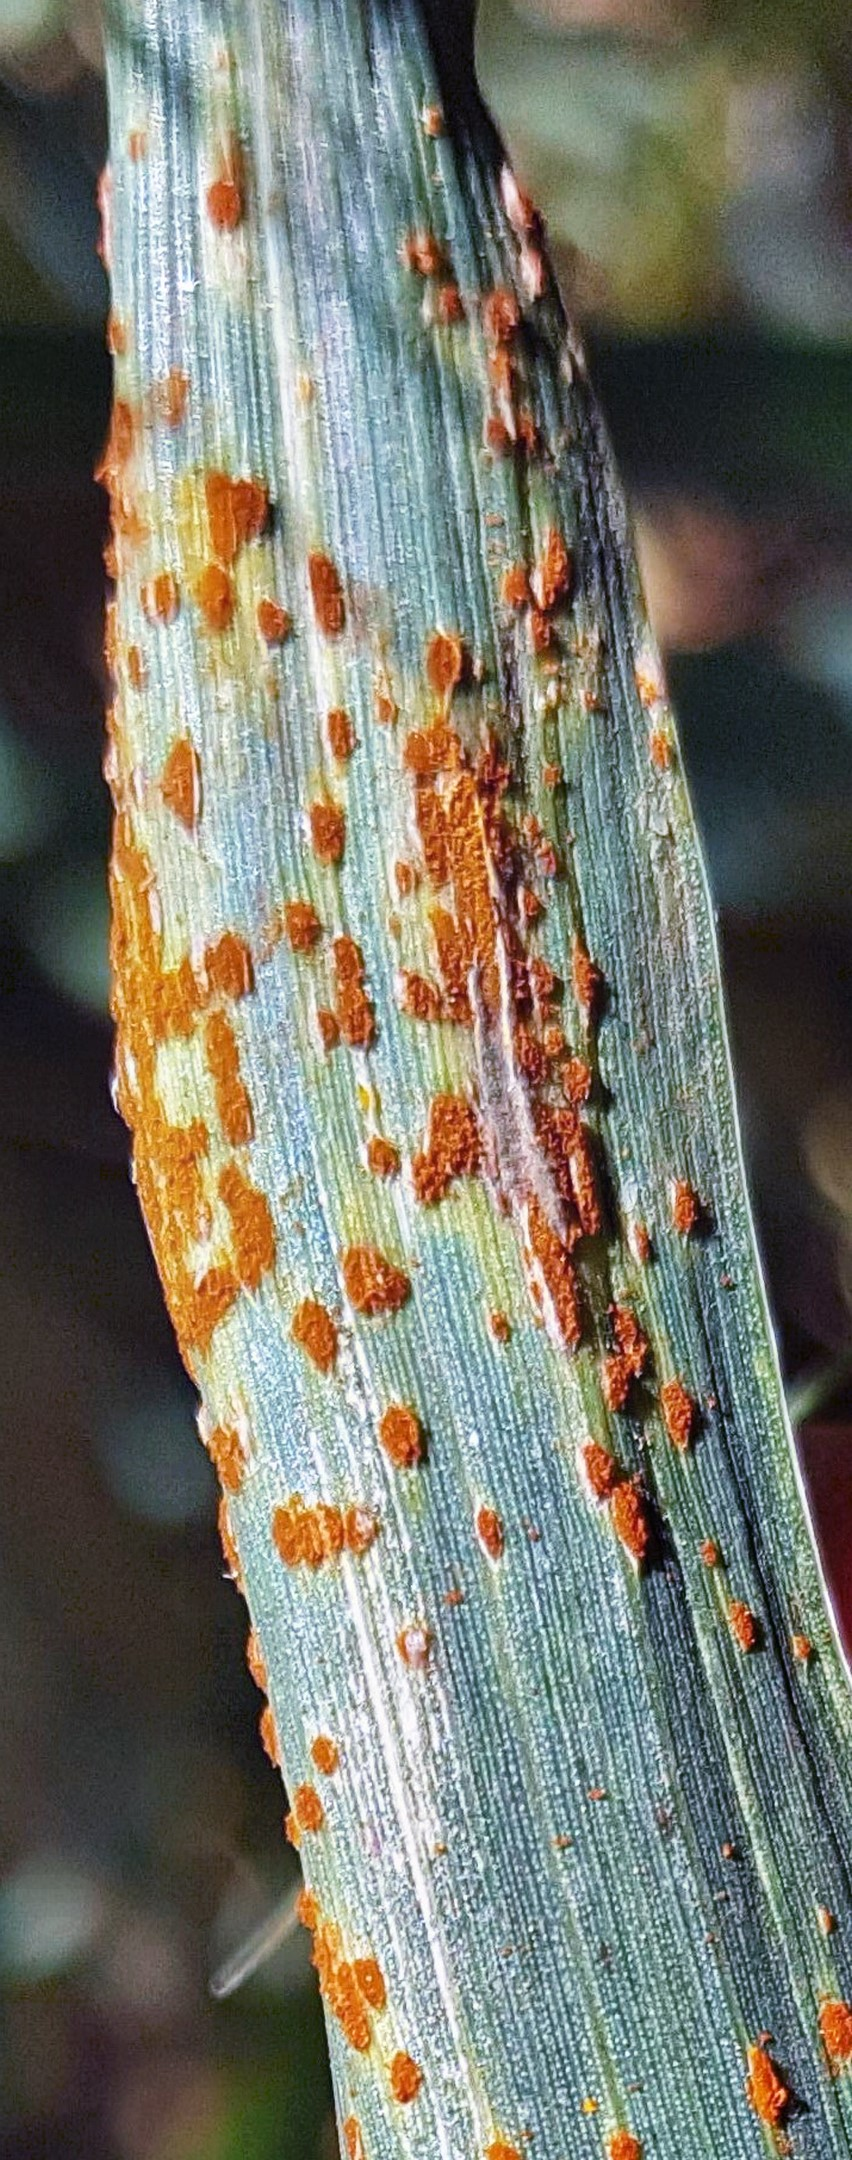Leaf Rust: (12, 326, 802, 1665)
